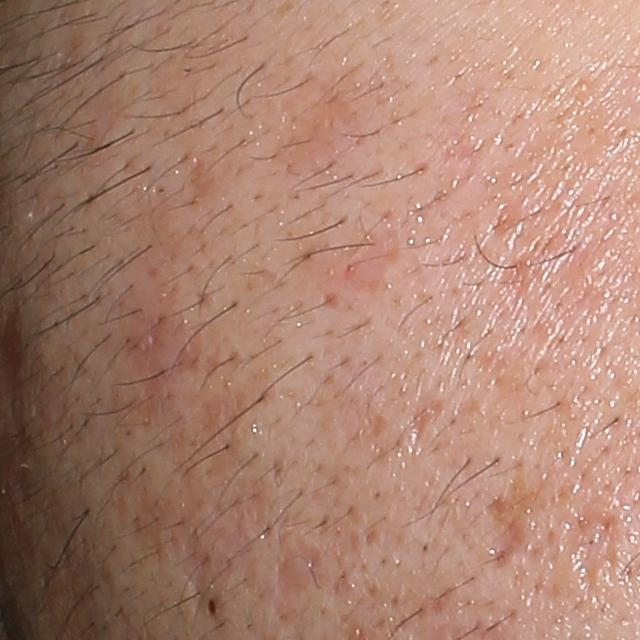atrophic_scar: (312, 219, 399, 297), (268, 536, 319, 625), (565, 510, 621, 590), (477, 492, 529, 569), (178, 525, 214, 617), (175, 157, 217, 208), (407, 396, 444, 452)
nevus: (206, 596, 219, 621)
